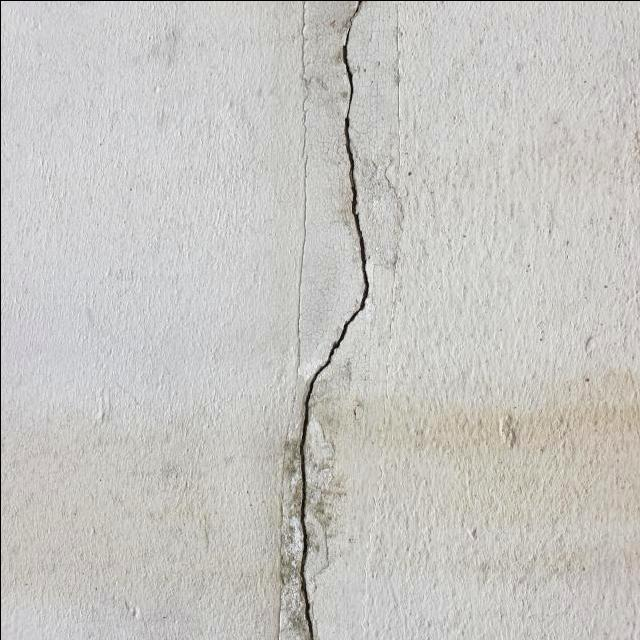SurfaceCrack: (259, 0, 413, 639)
